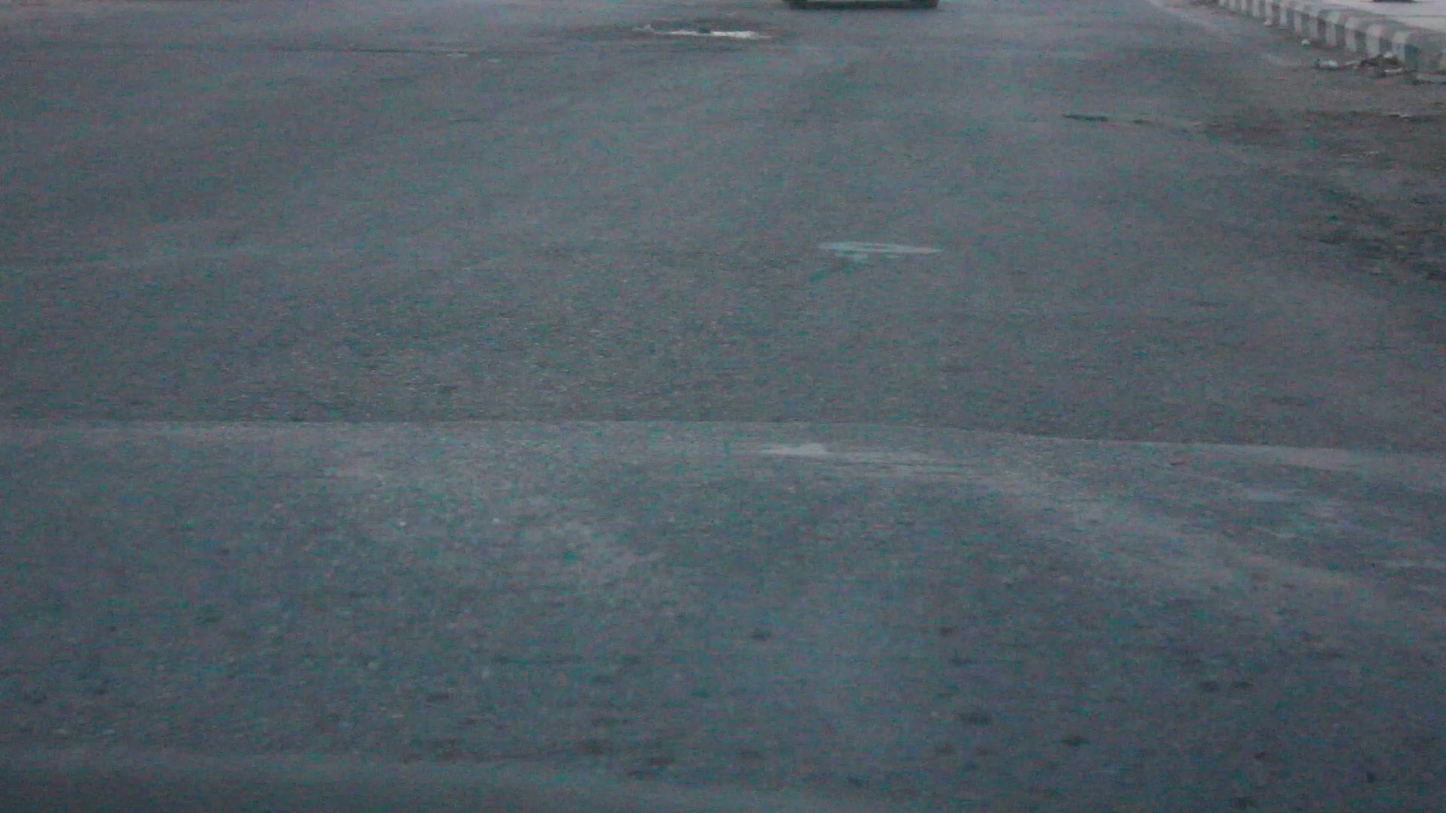Bump: (8, 440, 1446, 807)
